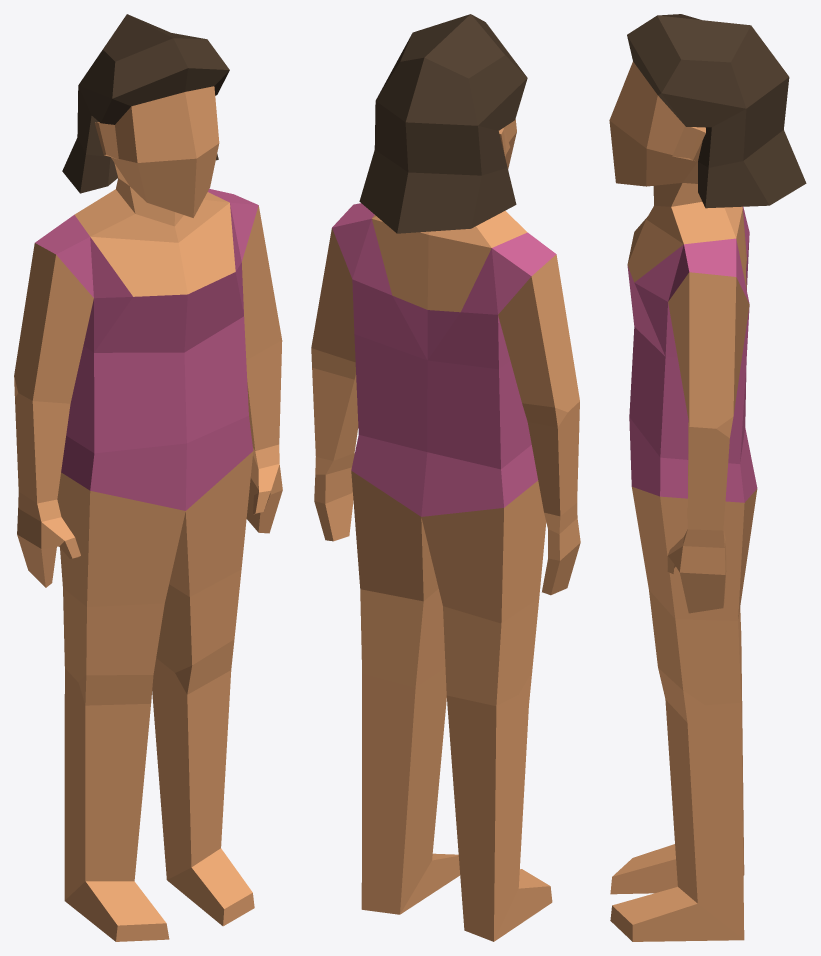
The model's file is girl-beach.glb.
3 renders of one model, left to right at view 1: azimuth 30°, elevation 25°; view 2: azimuth 150°, elevation 25°; view 3: azimuth 270°, elevation 25°, orthographic.
Visible parts, largest first — view 1: girl-beach; view 2: girl-beach; view 3: girl-beach.
Boxes of the visible parts, x1=… form: girl-beach: x1=14, y1=14, x2=282, y2=941; girl-beach: x1=311, y1=14, x2=580, y2=941; girl-beach: x1=609, y1=14, x2=806, y2=941.
Size of the model in its own units: 0.3303 by 1.1 by 0.2203.
1 material, 1 textured.
